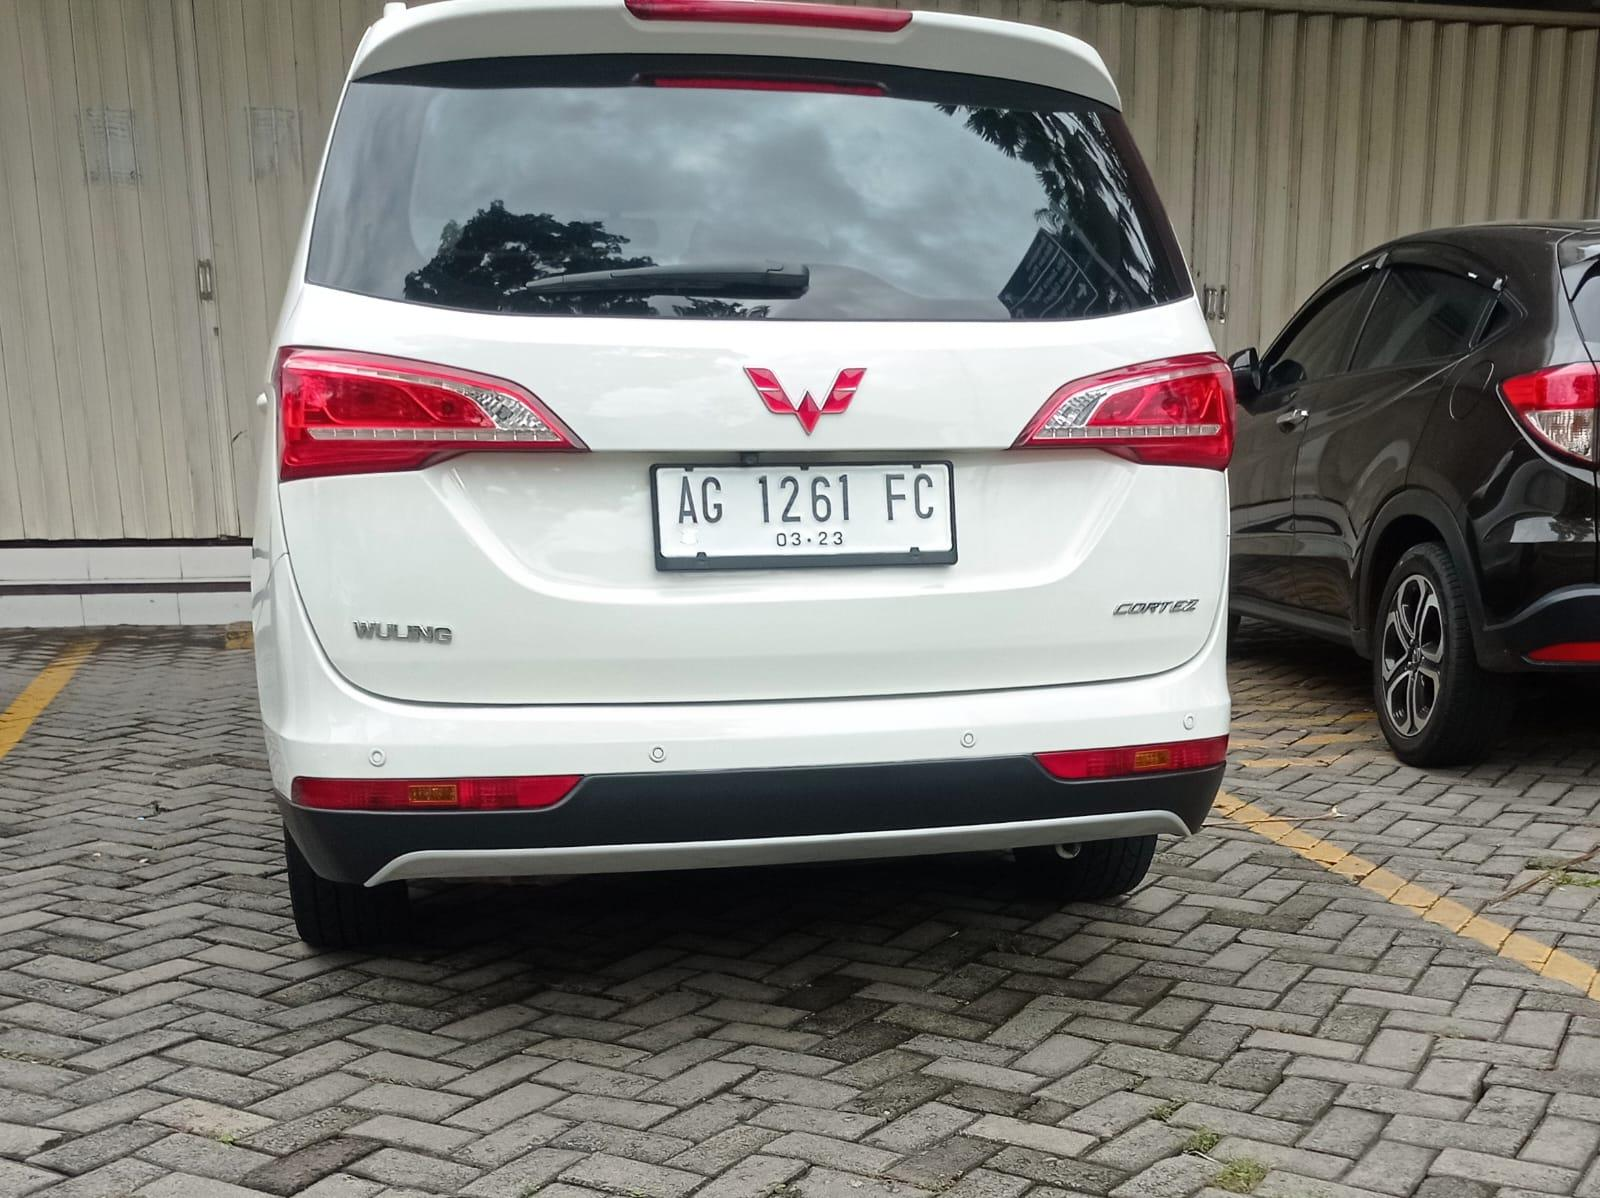plat: (658, 468, 952, 559)
